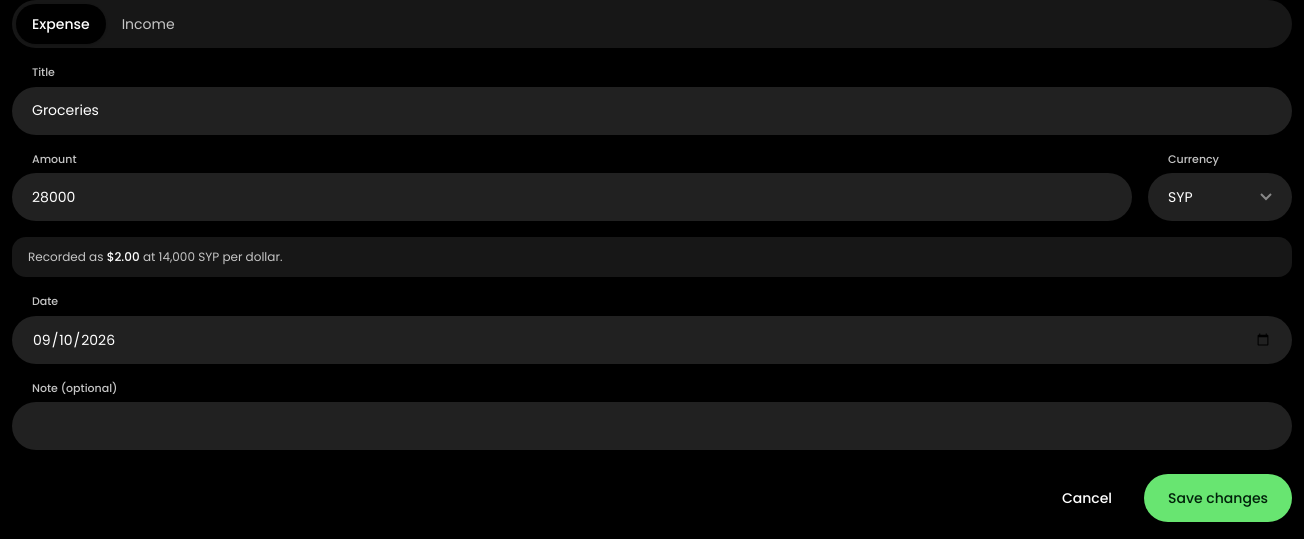
Test case: OperationForm › keeps the original rate when only the amount is edited
Step 1. Replace the text in the number field labelled "Amount" with "42000" → {"x": 572, "y": 197}, box [12, 173, 1132, 221]
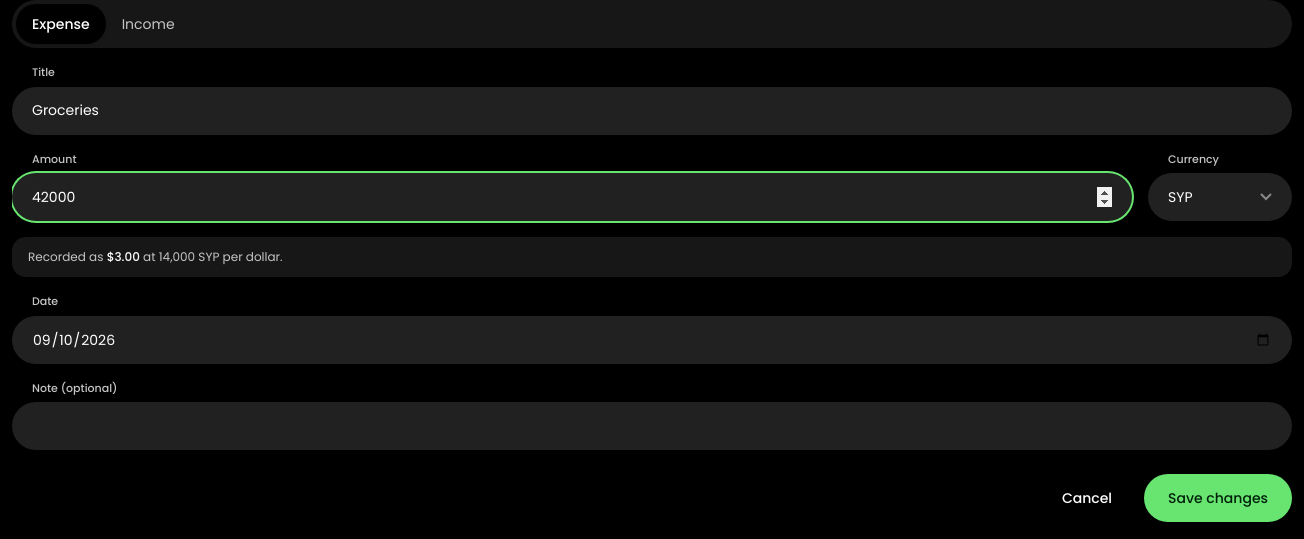
Expected: the text "Recorded as $3.00 at 14,000 SYP per dollar." is shown, [28, 248, 283, 265]
